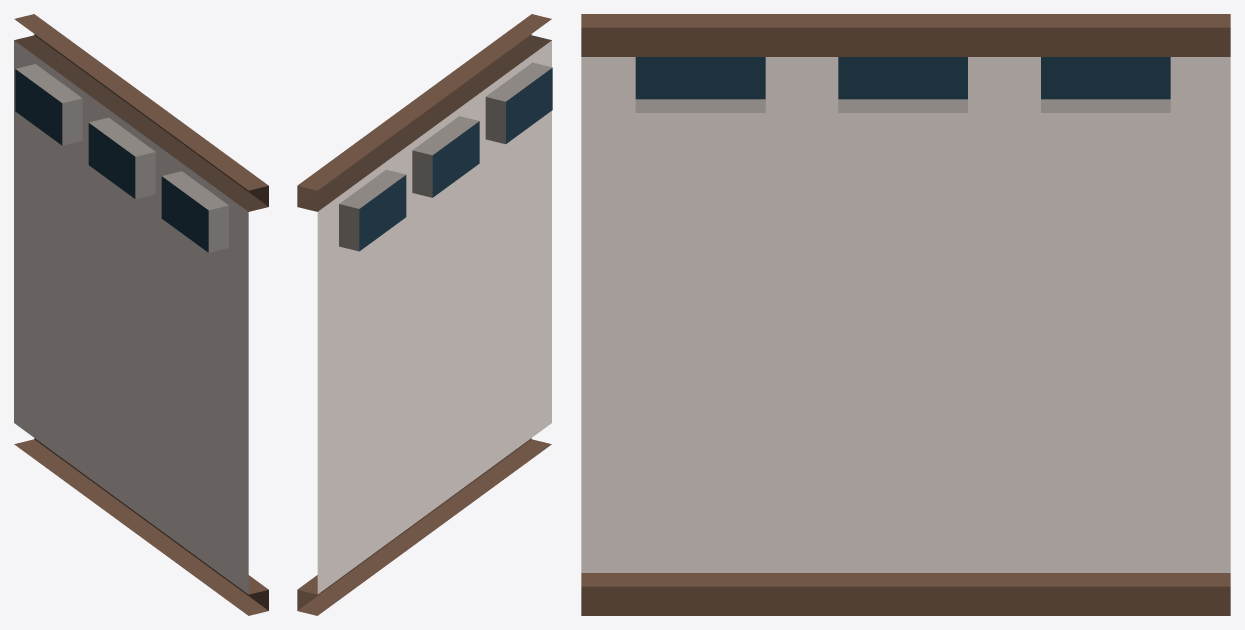
The model's file is basic_wall_003.fbx.
3 views of the same model, side by side, from view 1: azimuth 30°, elevation 25°; view 2: azimuth 150°, elevation 25°; view 3: azimuth 270°, elevation 25° (orthographic). The views are drawn at different scales.
Visible parts, largest first — view 1: Base_Wall.003; view 2: Base_Wall.003; view 3: Base_Wall.003.
Boxes of the visible parts, x1=… form: Base_Wall.003: x1=14, y1=14, x2=268, y2=615; Base_Wall.003: x1=297, y1=14, x2=552, y2=615; Base_Wall.003: x1=581, y1=14, x2=1230, y2=615.
Bounding box in the file's own units: 200 × 20 × 200.
